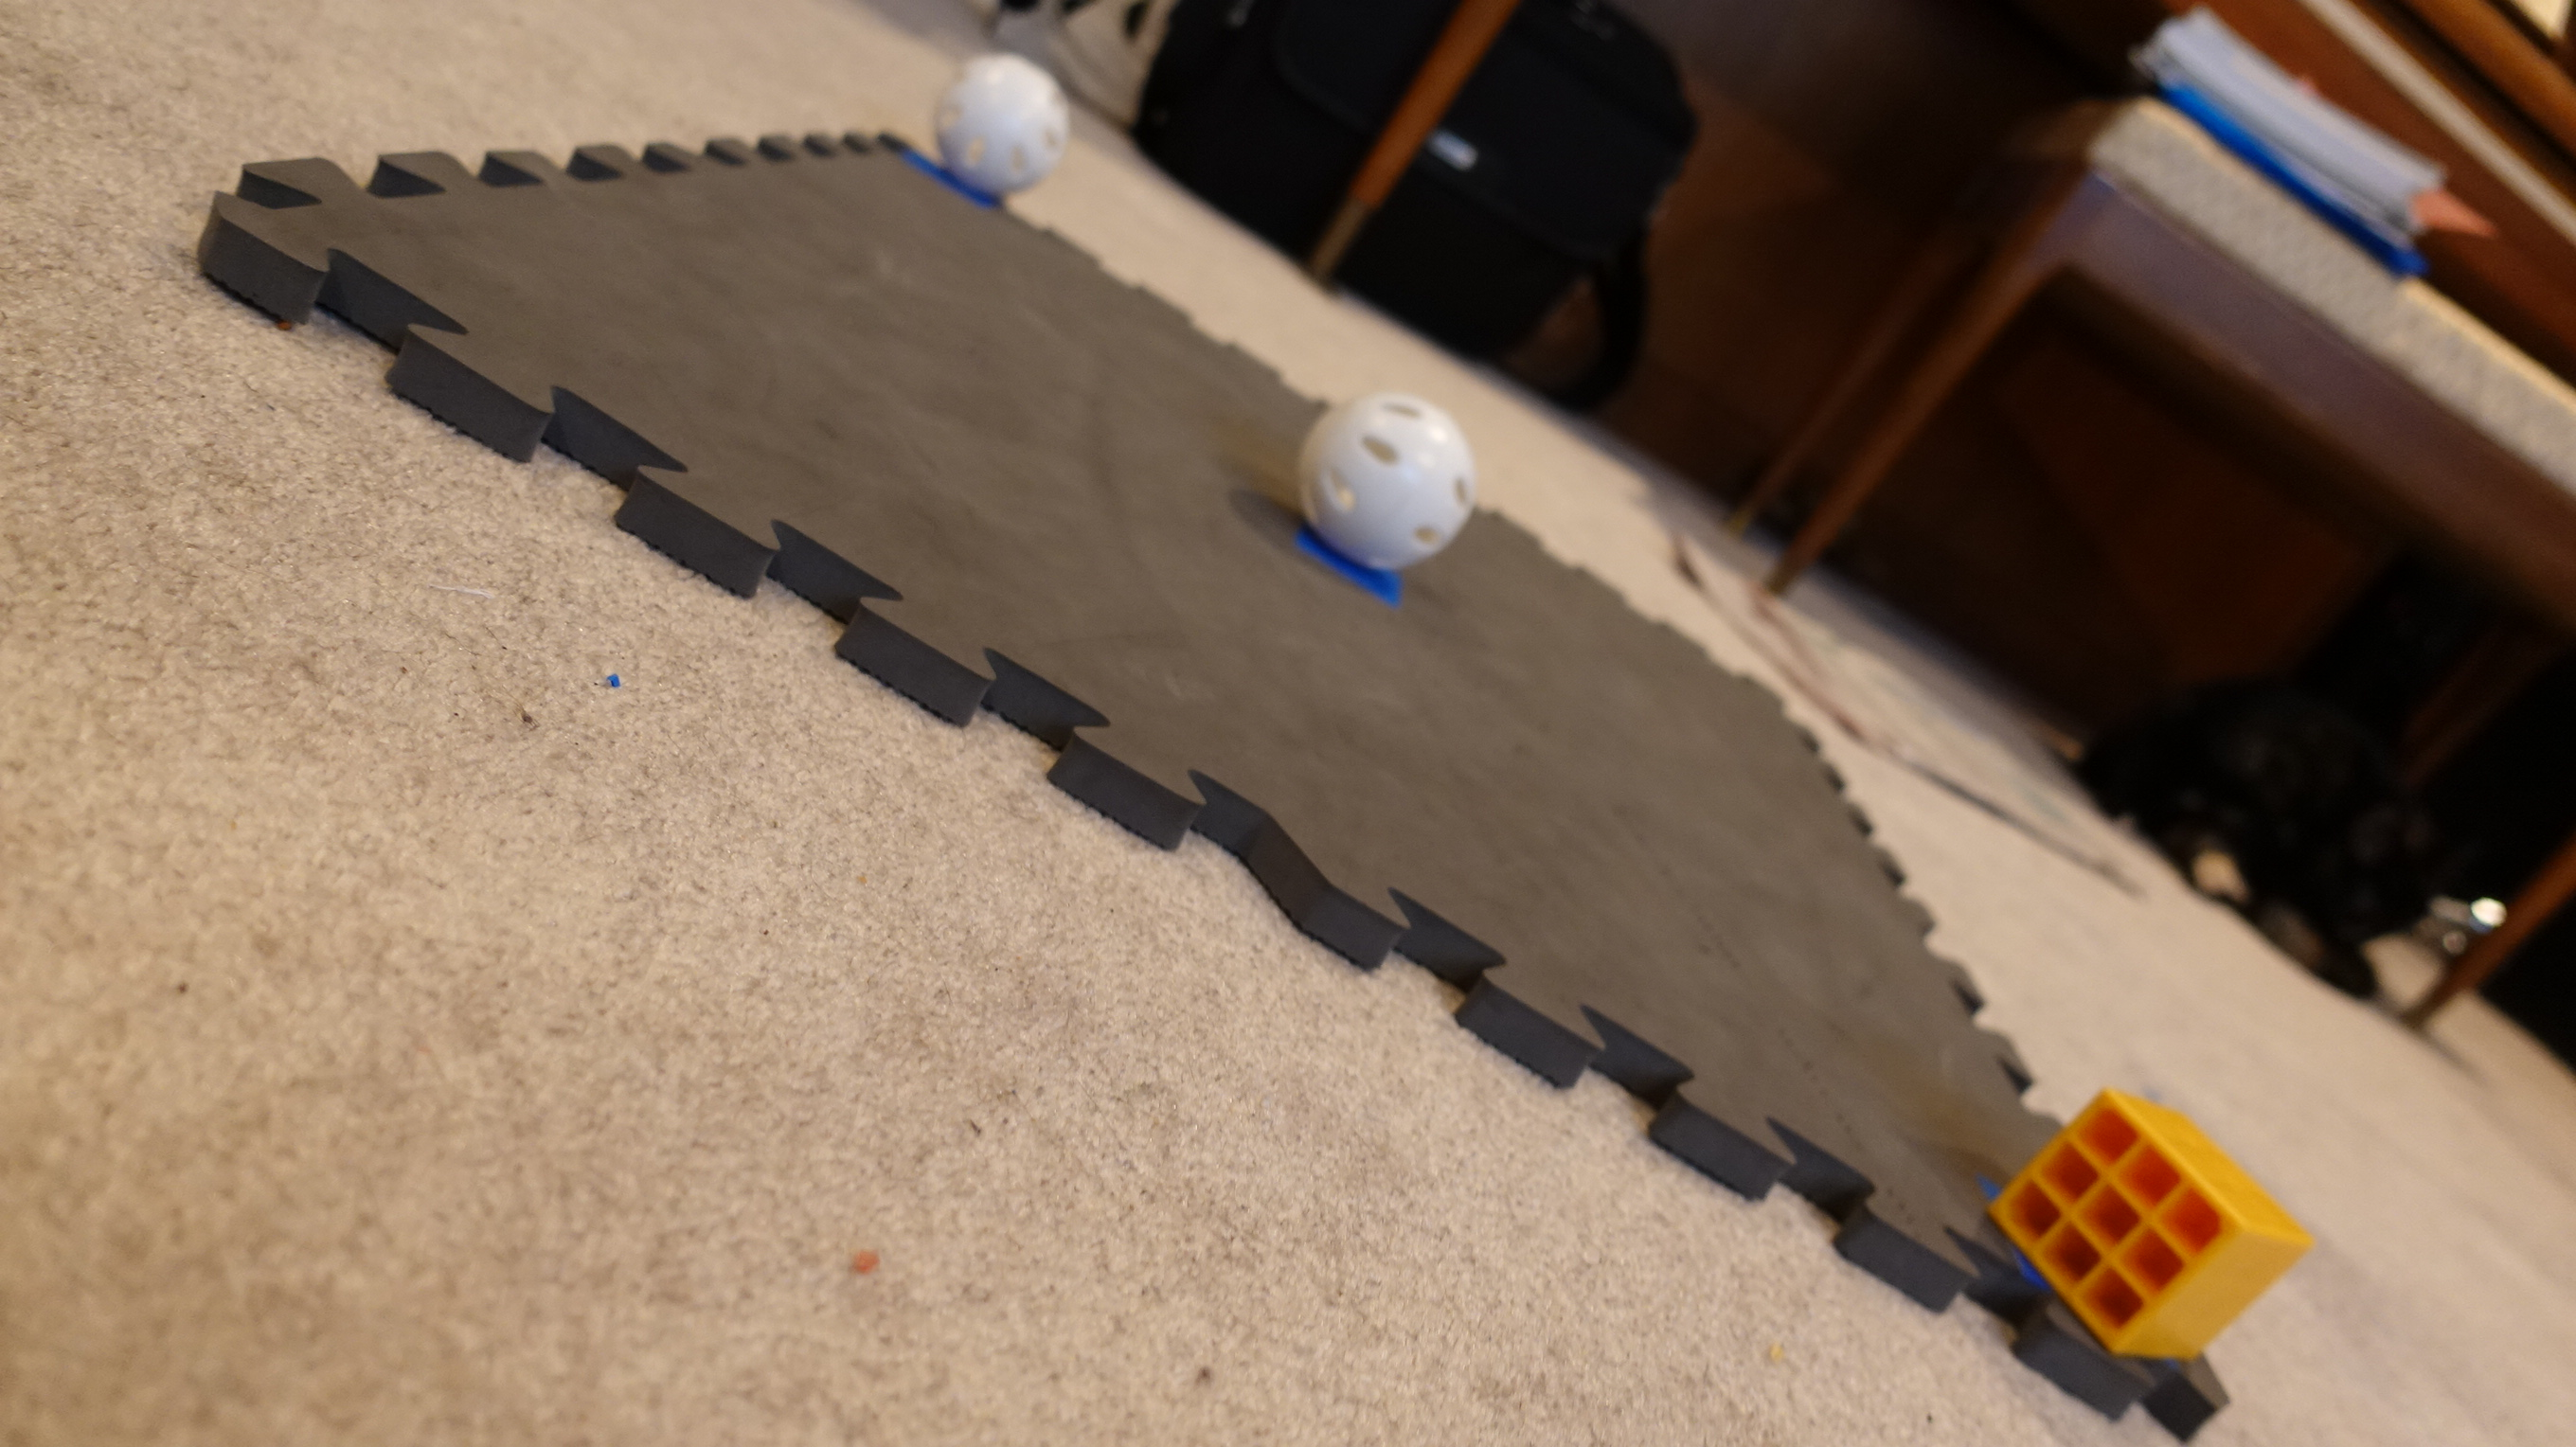gold: (1987, 1081, 2318, 1362)
silver: (1292, 386, 1481, 578), (936, 35, 1070, 200)
